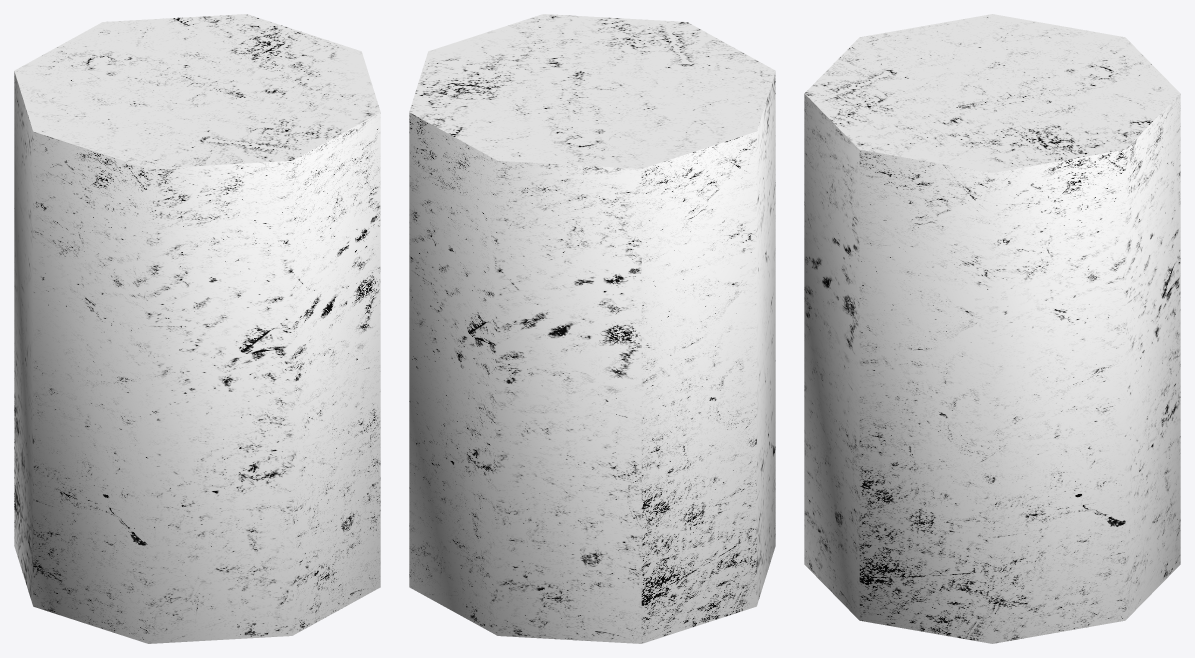
The model's file is Barrel.fbx.
3 views of the same model, side by side, from view 1: azimuth 30°, elevation 25°; view 2: azimuth 150°, elevation 25°; view 3: azimuth 270°, elevation 25° (orthographic).
Parts seen in each view (by area): view 1: Barrel; view 2: Barrel; view 3: Barrel.
Boxes of the visible parts, bbox=[...] form: Barrel: bbox=[14, 14, 380, 643]; Barrel: bbox=[409, 14, 775, 643]; Barrel: bbox=[804, 14, 1180, 643].
Size of the model in its own units: 100 by 138 by 100.
1 material, 1 textured.
